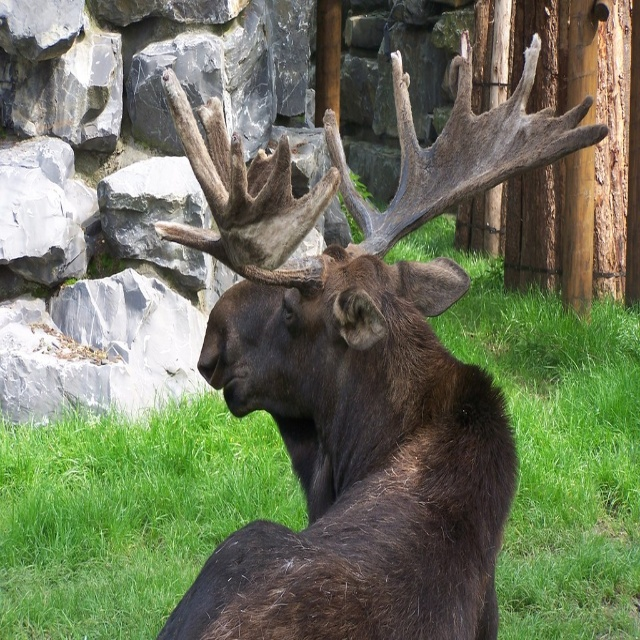Deer: (125, 30, 610, 640)
